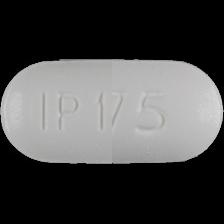33261-080: (0, 0, 224, 224)
